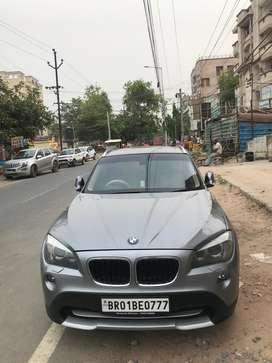BR01BE0777: (99, 296, 168, 310)
